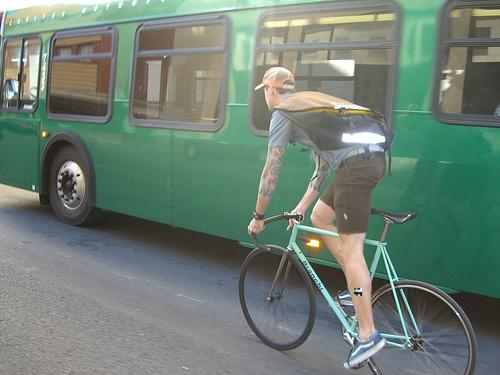bus: (1, 2, 500, 301)
car: (239, 209, 478, 375)
person: (249, 67, 396, 368)
